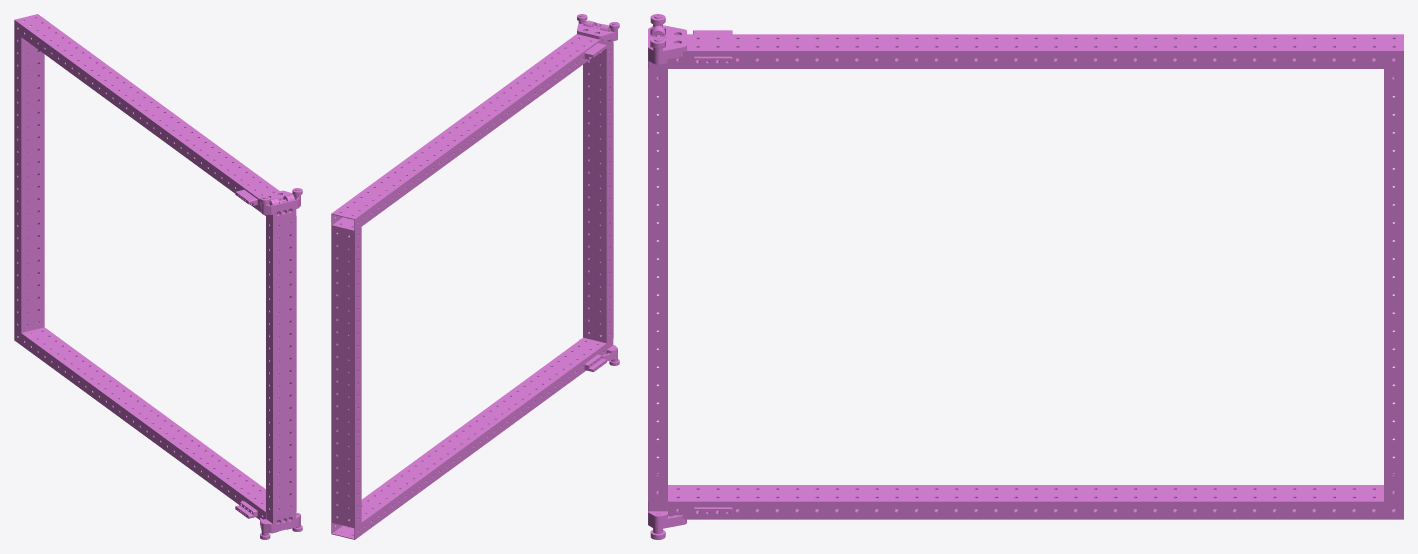
3 renders of one model, left to right at view 1: azimuth 30°, elevation 25°; view 2: azimuth 150°, elevation 25°; view 3: azimuth 270°, elevation 25°, orthographic. The views are drawn at different scales.
Parts seen in each view (by area): view 1: NAUO9, NAUO8, NAUO3, NAUO11, NAUO4, NAUO13; view 2: NAUO8, NAUO3, NAUO9, NAUO11, NAUO4; view 3: NAUO11, NAUO3, NAUO8, NAUO9, NAUO4, NAUO13.
Boxes of the visible parts, x1,y1,x2,y2 form: NAUO9: [266, 215, 296, 517]; NAUO8: [14, 32, 44, 332]; NAUO3: [14, 14, 279, 215]; NAUO11: [14, 327, 266, 519]; NAUO4: [260, 188, 302, 221]; NAUO13: [260, 512, 302, 539]; NAUO8: [331, 226, 361, 527]; NAUO3: [331, 34, 606, 231]; NAUO9: [583, 42, 613, 343]; NAUO11: [331, 337, 606, 539]; NAUO4: [577, 14, 619, 46]; NAUO11: [668, 485, 1403, 519]; NAUO3: [668, 34, 1403, 68]; NAUO8: [1384, 69, 1403, 501]; NAUO9: [648, 69, 667, 501]; NAUO4: [648, 14, 686, 68]; NAUO13: [648, 501, 686, 539].
Size of the model in its own units: 0.0889 by 0.7033 by 0.9652.
